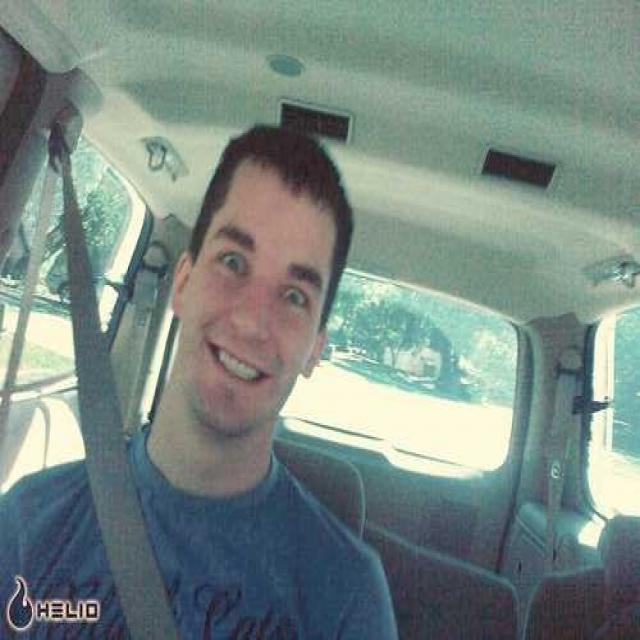seatbelt: (18, 121, 174, 587)
